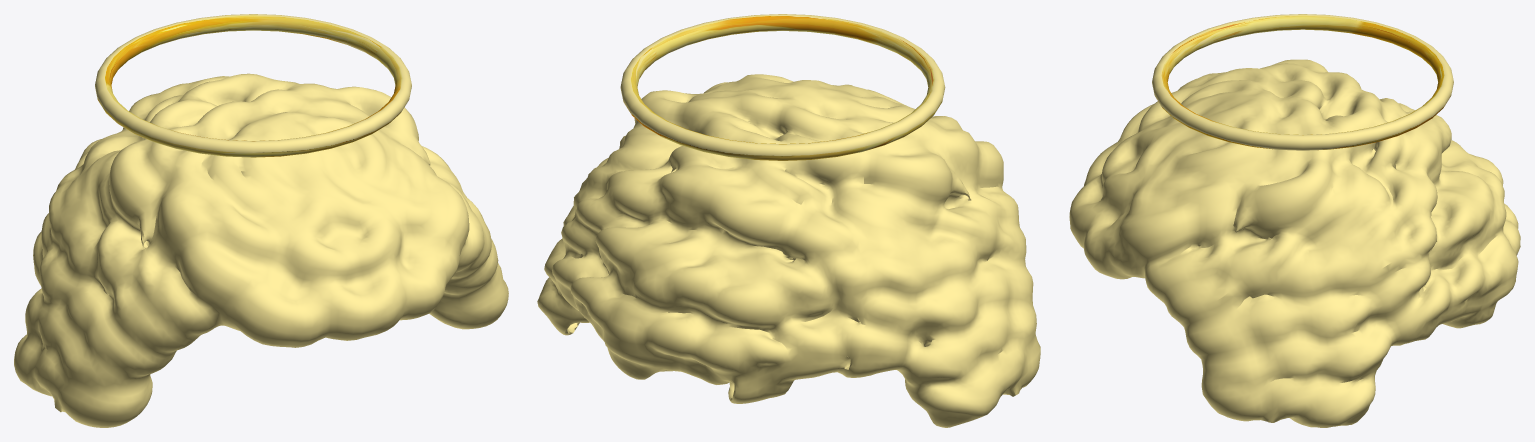
Rendered from Halo.gltf.
3 views of the same model, side by side, from view 1: azimuth 30°, elevation 25°; view 2: azimuth 150°, elevation 25°; view 3: azimuth 270°, elevation 25° (orthographic). The views are drawn at different scales.
Parts seen in each view (by area): view 1: hair8-PBR, hair8-PBR.1; view 2: hair8-PBR, hair8-PBR.1; view 3: hair8-PBR, hair8-PBR.1.
Boxes of the visible parts, x1,y1,x2,y2 form: hair8-PBR: [14, 73, 508, 427]; hair8-PBR.1: [95, 14, 411, 157]; hair8-PBR: [537, 74, 1040, 427]; hair8-PBR.1: [620, 14, 945, 160]; hair8-PBR: [1069, 59, 1520, 427]; hair8-PBR.1: [1152, 14, 1453, 150].
Size of the model in its own units: 9.09 by 5.42 by 8.43.
Materials: 2 (1 with a texture image).
